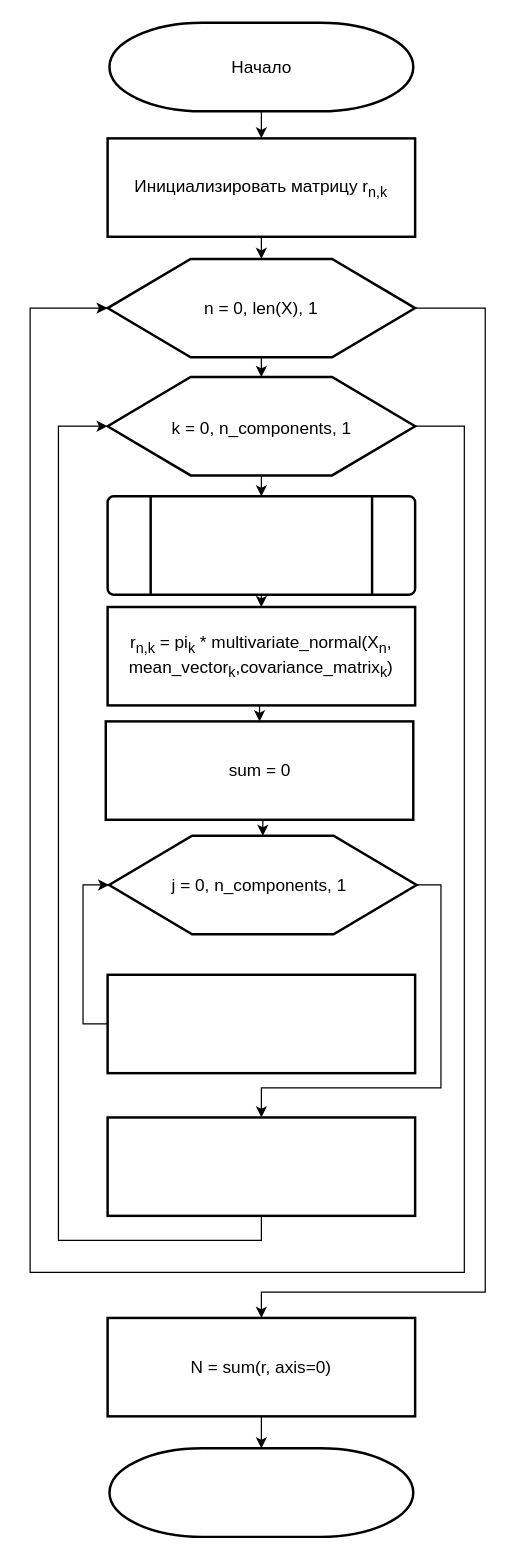
Image size: 517x1558. Some labels were removed from this diagram. Each missing label, with the centre of its shape:
"multivariate_normal(X, mean_vector, cov_matrix)" belongs at point 261,544.
"r n,k = r n,k / sum" belongs at point 261,1166.
"sum += pi j * multivariate_normal(X n , mean_vector j ,covariance_matrix j )" belongs at point 261,1023.
"Конец" belongs at point 261,1492.
